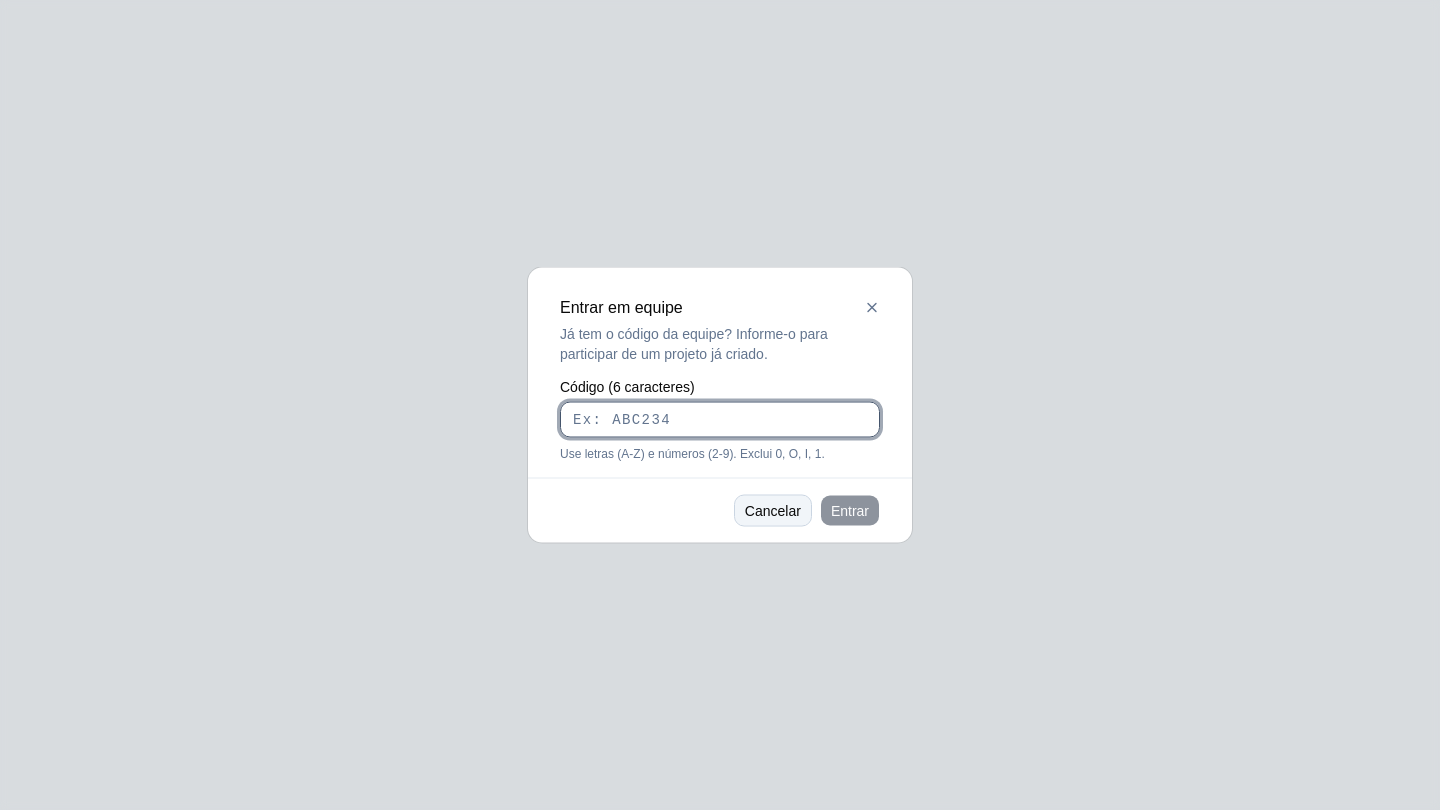
Scenario: JoinTeamModal › enforces 6 character limit
The width and height of the screenshot is (1440, 810).
In the field labelled "Código (6 caracteres)": [720, 420] box [560,402,880,438], type "ABCDEFGHIJ"
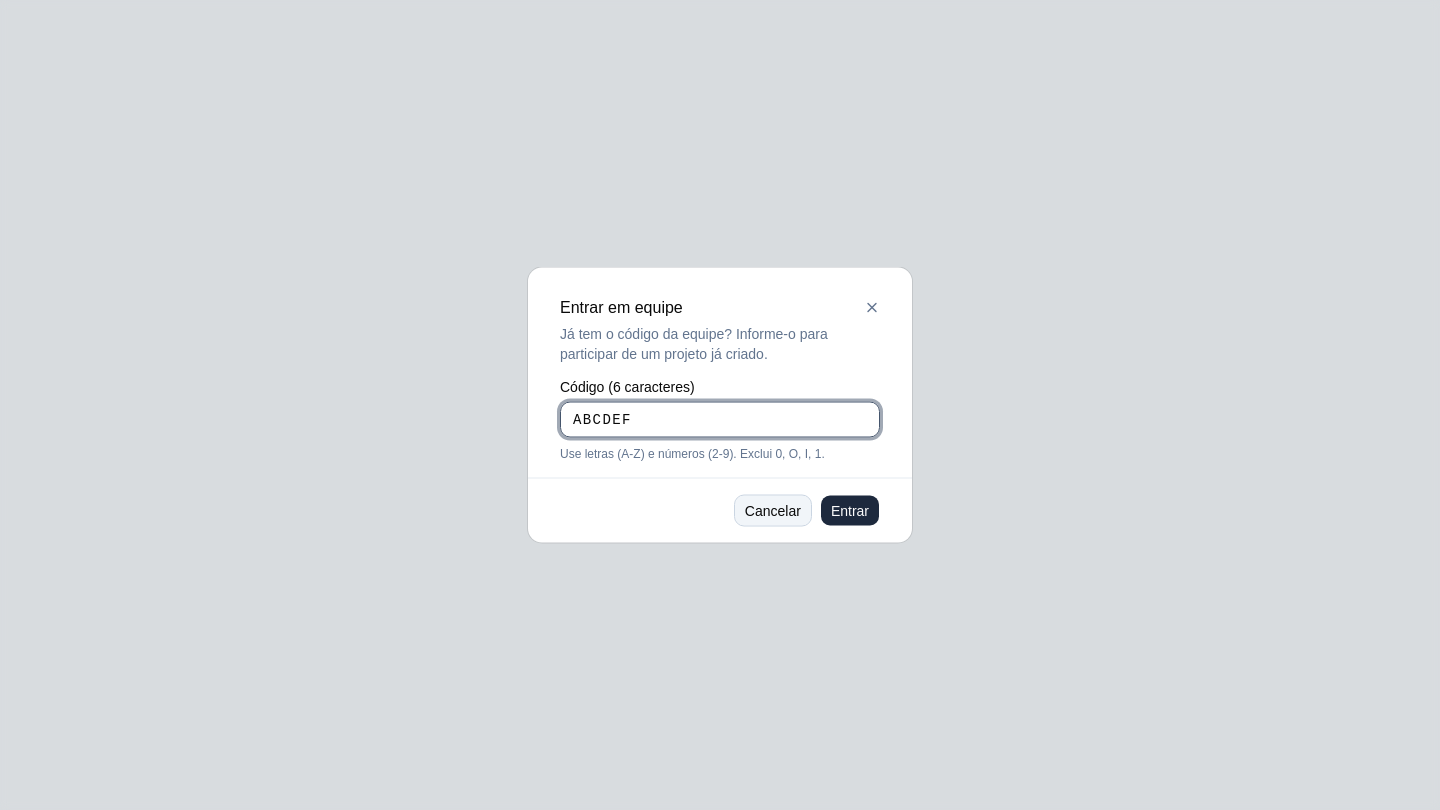
Expected: the field labelled "Código (6 caracteres)" holds "ABCDEF", [560,402,880,438]
